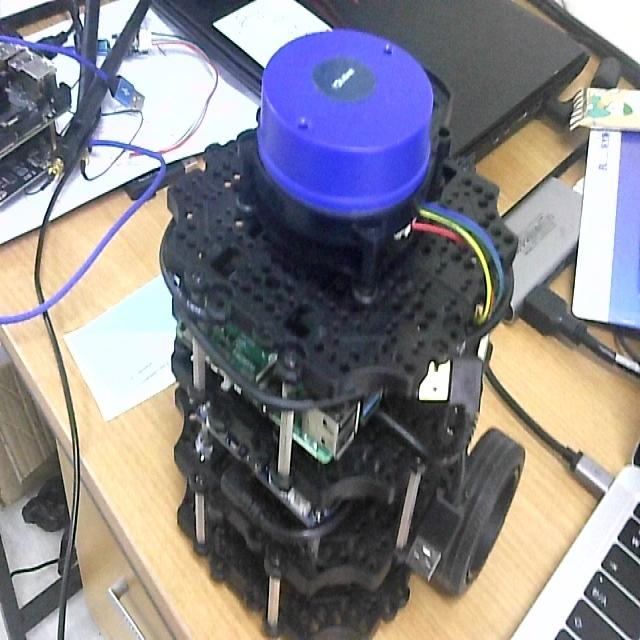turtle: (156, 24, 529, 640)
